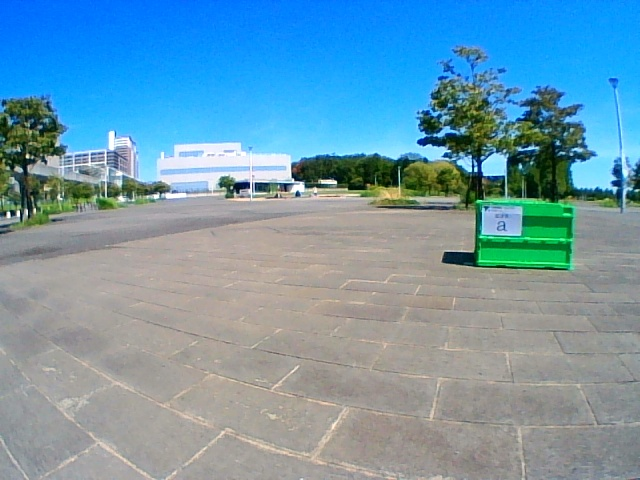green_box: (473, 198, 574, 271)
tag_a: (484, 207, 520, 234)
